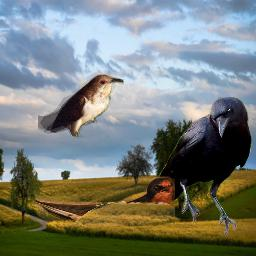Crow: (150, 97, 252, 236)
Cuckoo: (38, 74, 124, 137)
Swallow: (35, 176, 175, 227)
